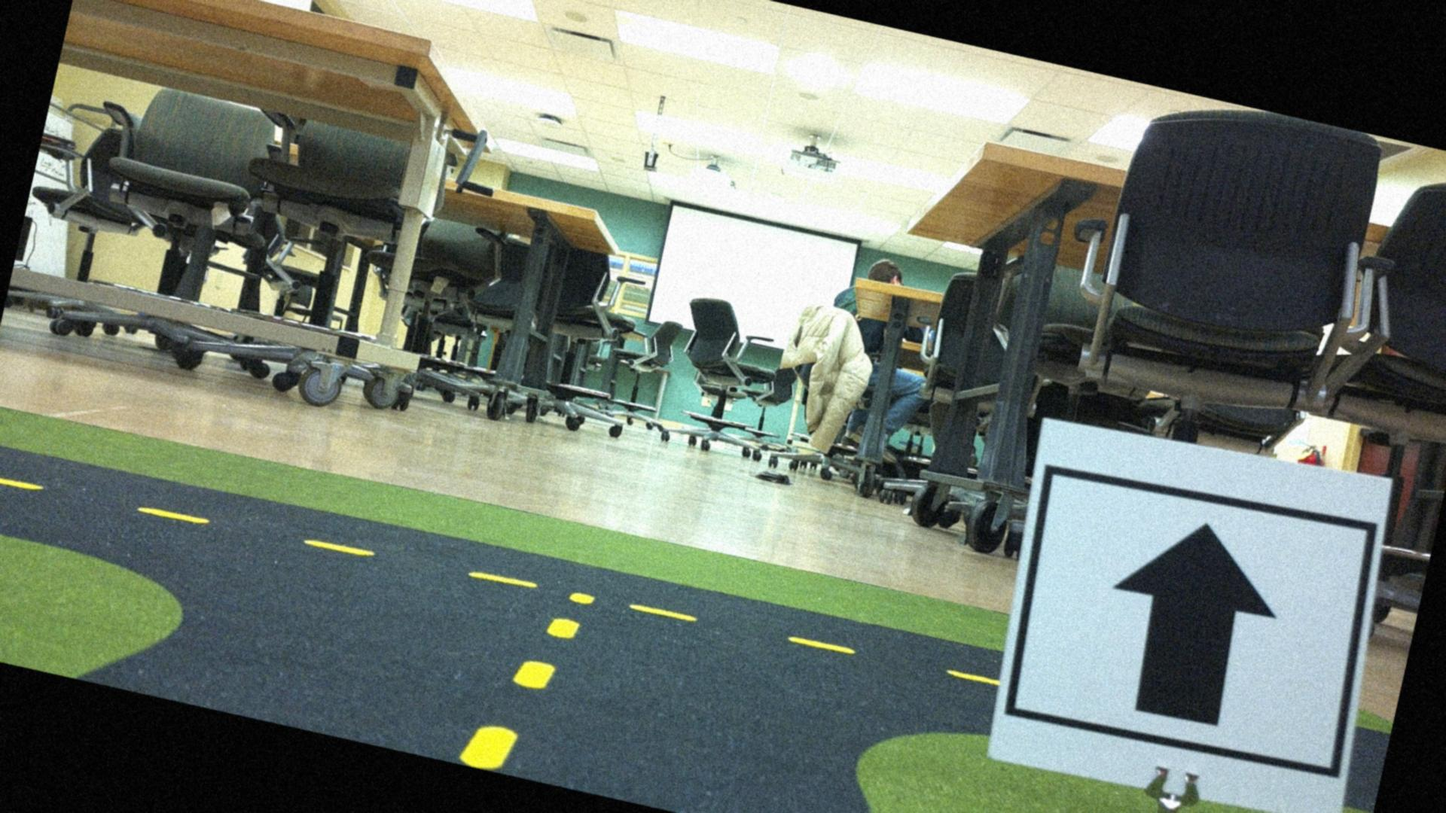gostraight: (990, 440, 1380, 808)
yellowline: (0, 448, 999, 705), (460, 574, 591, 784)
